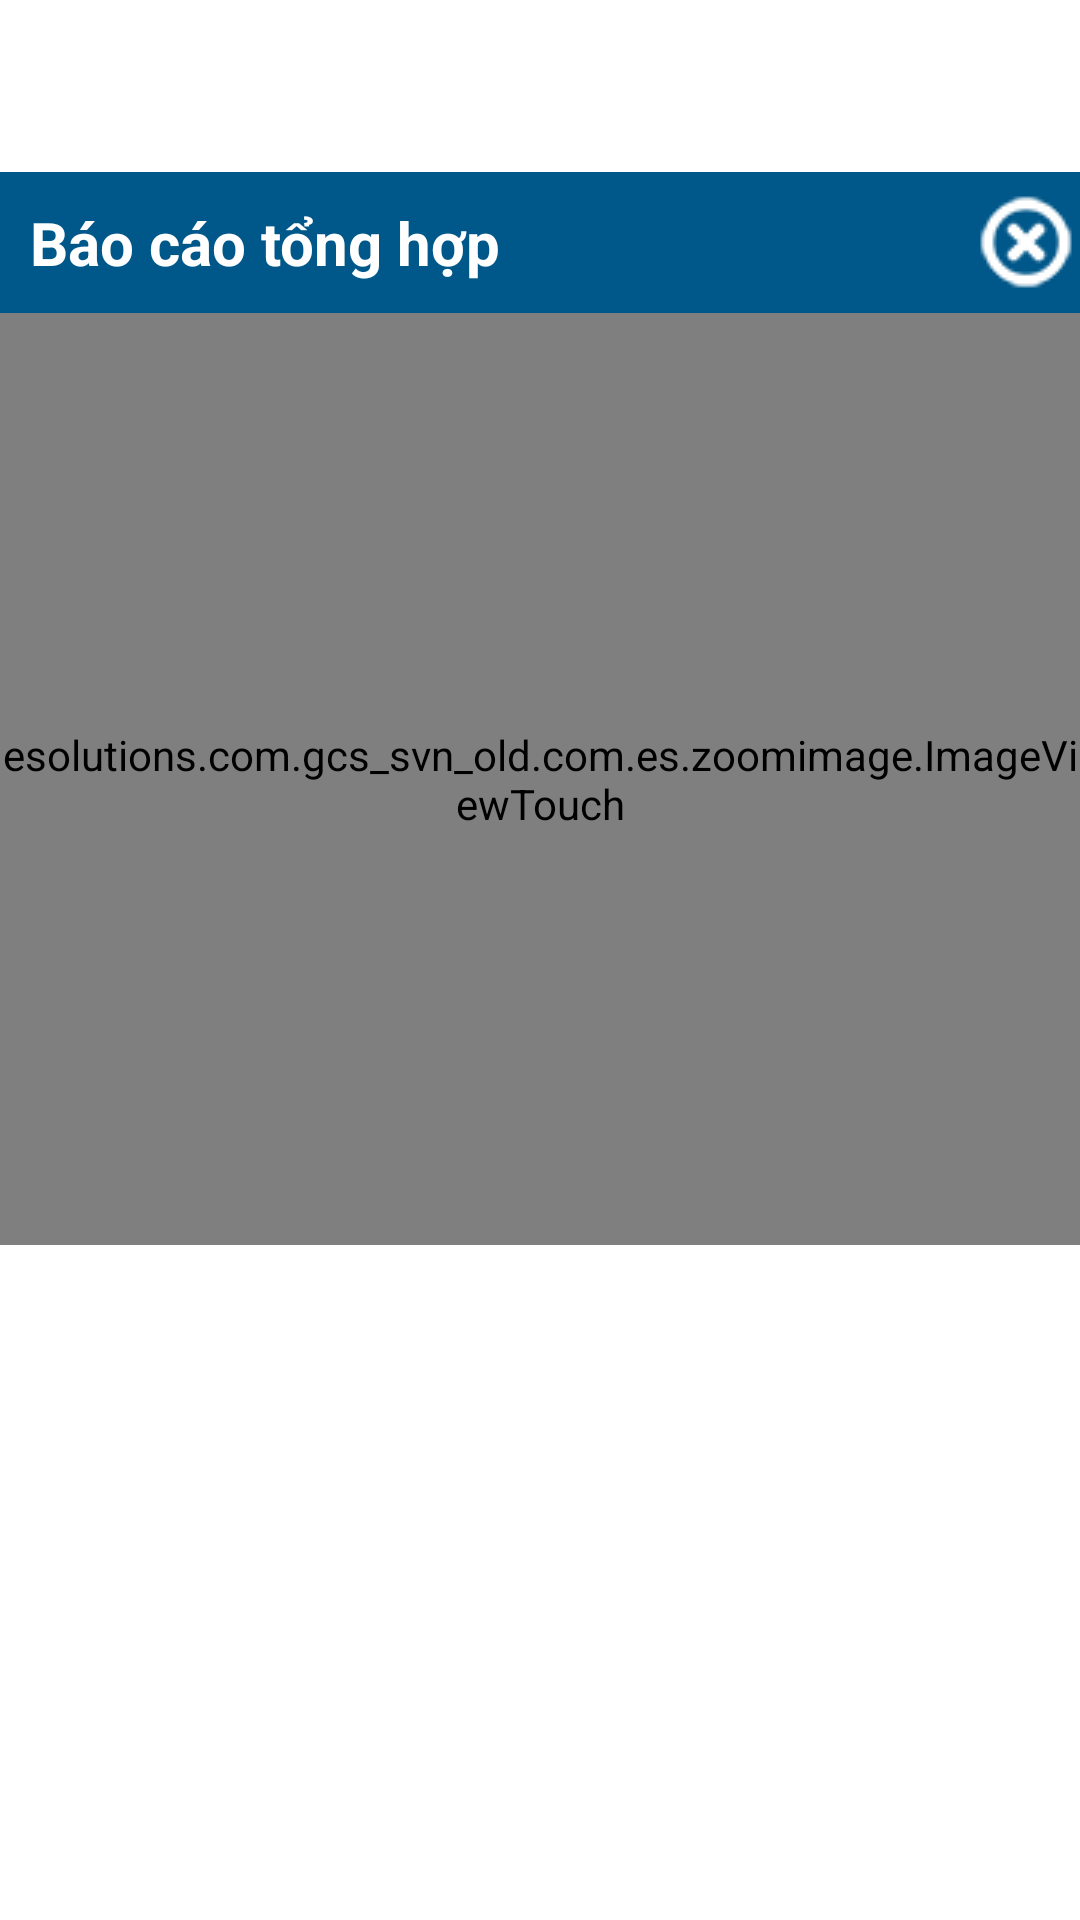

Point at icon controls on the screen. Image size 1080×1920, points as (x,y).
gcs close: (1026,242)
